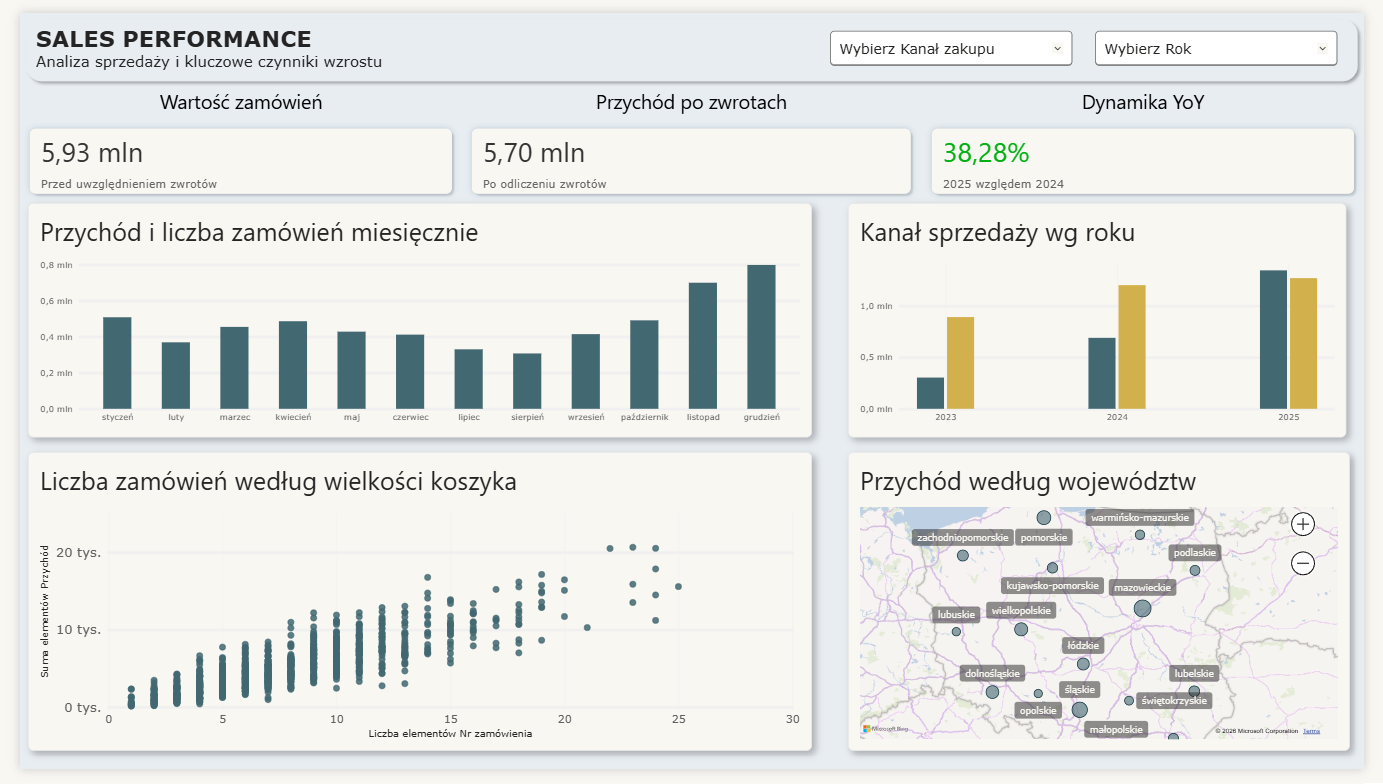

The dashboard page shown, as its layout file describes it:
{"tool":"powerbi","page":{"name":"Strona 2","canvas":[1920,1080],"ordinal":1},"visuals":[{"type":"shape","box":[0,0,1920,106.7],"z":0},{"type":"textbox","box":[23.3,16.7,1896.7,90],"z":1000},{"type":"cardVisual","title":"Dynamika YoY","fields":{"Data":["Kalendarz.Dynamika 2025 vs 2024"]},"box":[1288.3,106.7,631.7,165],"z":2000},{"type":"cardVisual","title":"Przychód po zwrotach","fields":{"Data":["Sum(dane.Przychód)"]},"box":[631.7,106.7,655,165],"z":3000},{"type":"cardVisual","title":"Wartość zamówień","fields":{"Data":["Sum(dane.Wartość zamówienia)"]},"box":[0,106.7,631.7,165],"z":4000},{"type":"scatterChart","title":"Liczba zamówień według wielkości koszyka","fields":{"Category":["dane.Data zamówienia"],"X":["CountNonNull(dane.Nr zamówienia)"],"Y":["Sum(dane.Przychód)"]},"box":[11.7,626.7,1120,426.7],"z":5000},{"type":"clusteredColumnChart","title":"Kanał sprzedaży wg roku","fields":{"Category":["dane.Data zamówienia.Variation.Hierarchia dat.Rok"],"Series":["dane.Kanał zakupu"],"Y":["Sum(dane.Przychód)"]},"box":[1183.3,271.7,711.7,335],"z":6000},{"type":"columnChart","title":"Przychód i liczba zamówień miesięcznie","fields":{"Category":["dane.Data zamówienia.Variation.Hierarchia dat.Miesiąc"],"Y":["Sum(dane.Przychód)"]},"box":[11.7,271.7,1120,335],"z":7000},{"type":"map","title":"Przychód według województw","fields":{"Category":["dane.Województwo"],"Size":["Sum(dane.Przychód)"]},"box":[1183.3,626.7,716.7,426.7],"z":8000},{"type":"listSlicer","fields":{"Values":["dane.Data zamówienia.Variation.Hierarchia dat.Rok"]},"box":[1520,11.7,378.3,95],"z":9000},{"type":"listSlicer","fields":{"Values":["dane.Kanał zakupu"]},"box":[1141.7,11.7,378.3,95],"z":10000}]}

Visuals, with their boxes in screenshot pixels (x1, y1, x2, y2), scaled from the page's 1920x1080 canvas onto the 1383x784 screenshot:
shape: box=[0, 0, 1382, 77]
textbox: box=[17, 12, 1382, 77]
"Dynamika YoY" cardVisual: box=[928, 77, 1382, 197]
"Przychód po zwrotach" cardVisual: box=[455, 77, 927, 197]
"Wartość zamówień" cardVisual: box=[0, 77, 455, 197]
"Liczba zamówień według wielkości koszyka" scatterChart: box=[8, 455, 815, 765]
"Kanał sprzedaży wg roku" clusteredColumnChart: box=[852, 197, 1365, 440]
"Przychód i liczba zamówień miesięcznie" columnChart: box=[8, 197, 815, 440]
"Przychód według województw" map: box=[852, 455, 1369, 765]
listSlicer - dane.Data zamówienia.Variation.Hierarchia dat.Rok: box=[1095, 8, 1367, 77]
listSlicer - dane.Kanał zakupu: box=[822, 8, 1095, 77]
